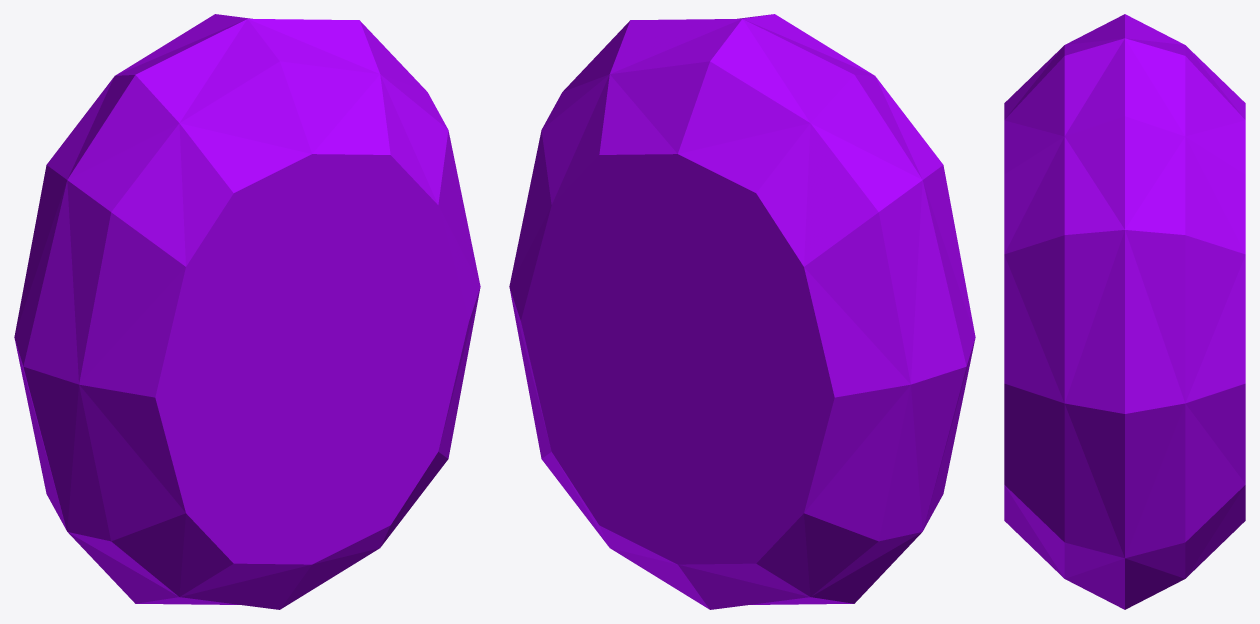
File: Crystal_purple.fbx
3 views of the same model, side by side, from view 1: azimuth 30°, elevation 25°; view 2: azimuth 150°, elevation 25°; view 3: azimuth 270°, elevation 25° (orthographic). The views are drawn at different scales.
Parts seen in each view (by area): view 1: polySurface1; view 2: polySurface1; view 3: polySurface1.
Boxes of the visible parts, x1,y1,x2,y2 form: polySurface1: (14, 14, 480, 609); polySurface1: (509, 14, 975, 609); polySurface1: (1004, 14, 1245, 609).
Bounding box in the file's own units: 0.1573 × 0.1966 × 0.0786.
Materials: 1 (1 with a texture image).
